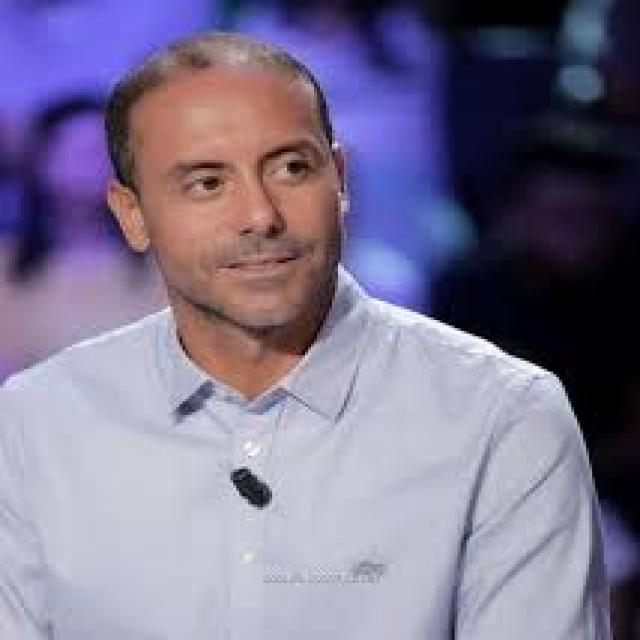natural: (119, 42, 373, 346)
